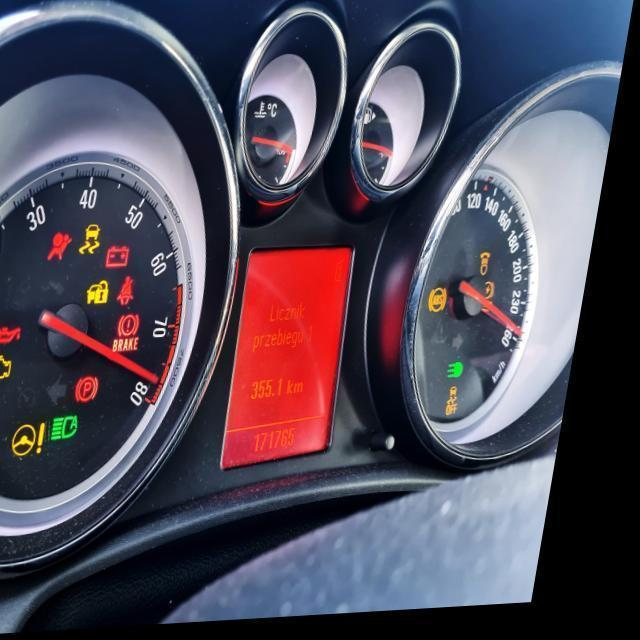Electronic Power Steering: (10, 418, 48, 456)
Seat Belt: (117, 276, 135, 306)
